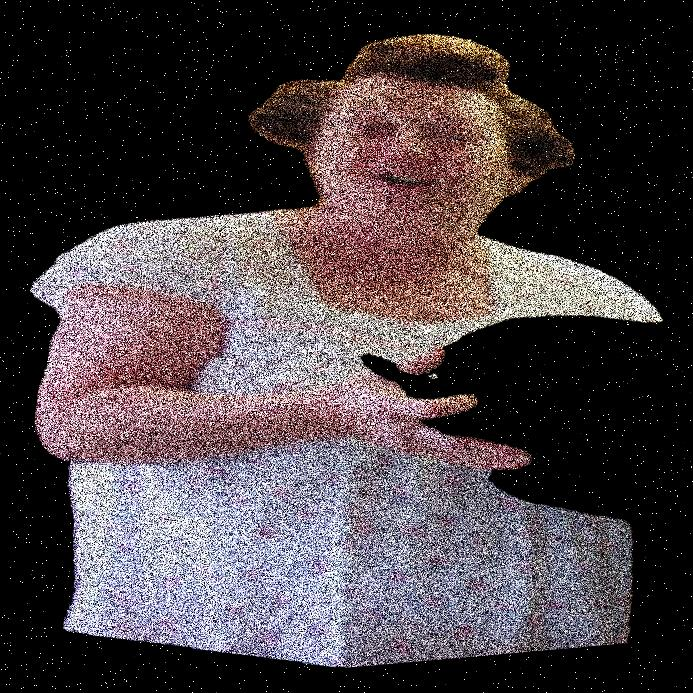Pessoa: (122, 0, 568, 692)
